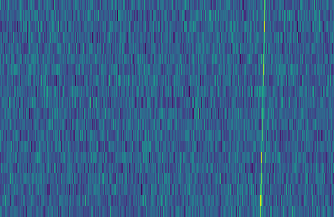signal: (257, 0, 271, 217)
